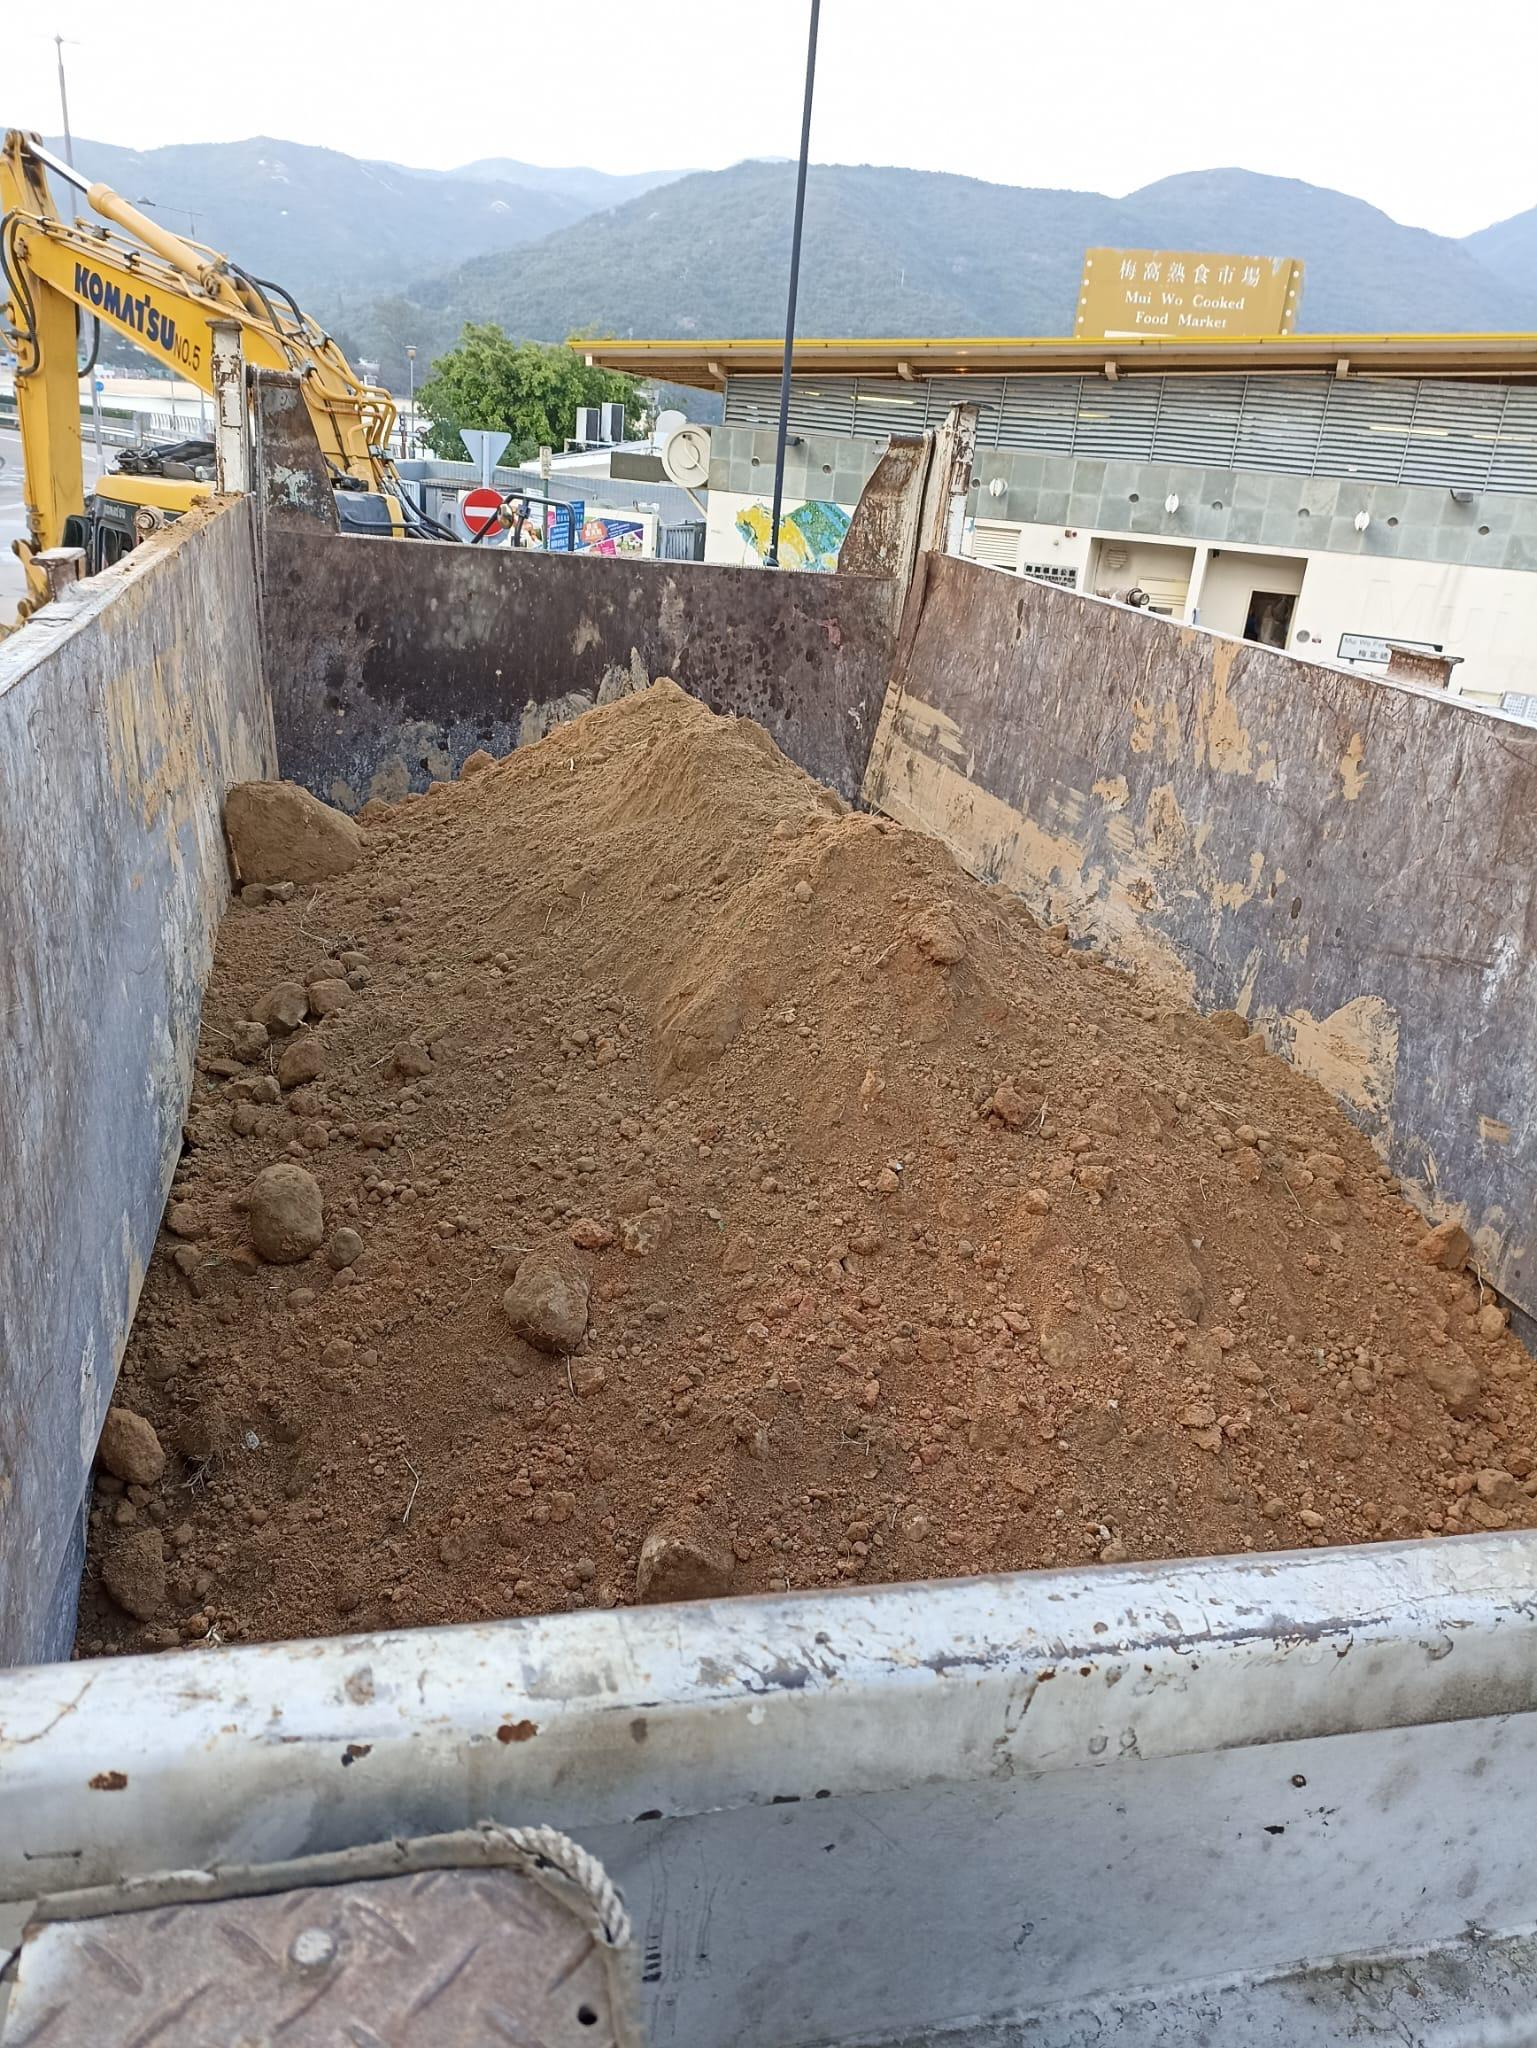dirt: (74, 670, 1534, 1656)
stone: (221, 776, 363, 886), (500, 1236, 589, 1352), (244, 1160, 325, 1264), (97, 1523, 168, 1620), (95, 1406, 166, 1485), (250, 980, 307, 1033), (307, 976, 354, 1015)
